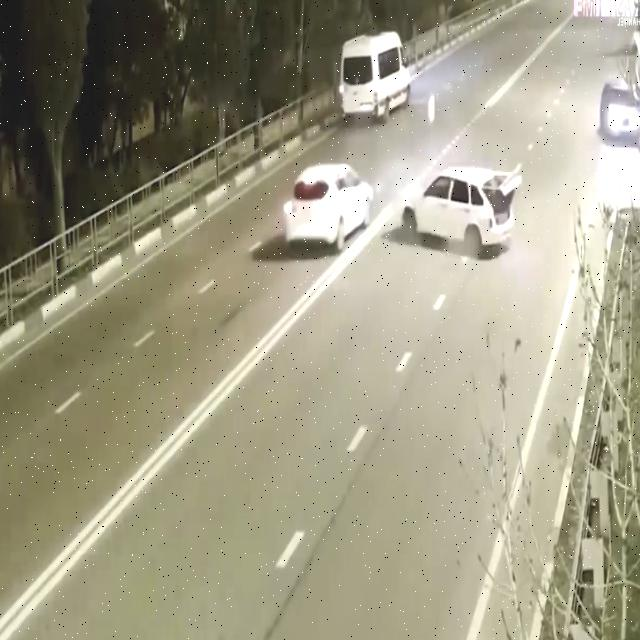accident: (398, 151, 525, 272)
